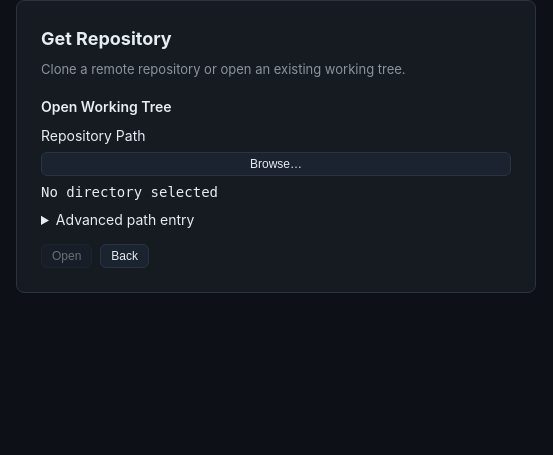
Test case: ClientClone rejects relative paths before any backend call › shows an actionable error for a relative open path
Click the heading "Advanced path entry": (125, 219) left=56, top=210, right=194, bottom=228
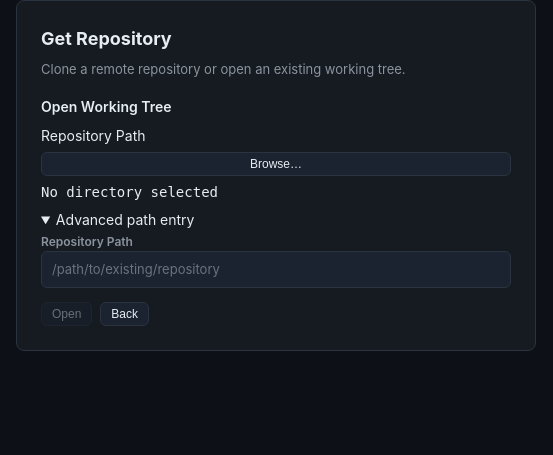
In the field labelled "Repository Path": (276, 269) left=41, top=250, right=511, bottom=288, type "./repo"
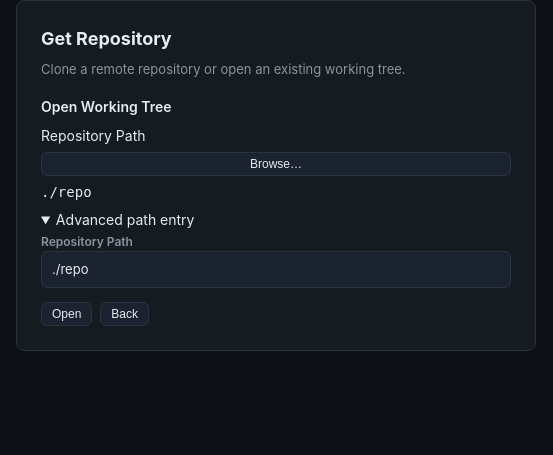
Click the button "Open": (67, 314) left=41, top=302, right=92, bottom=326
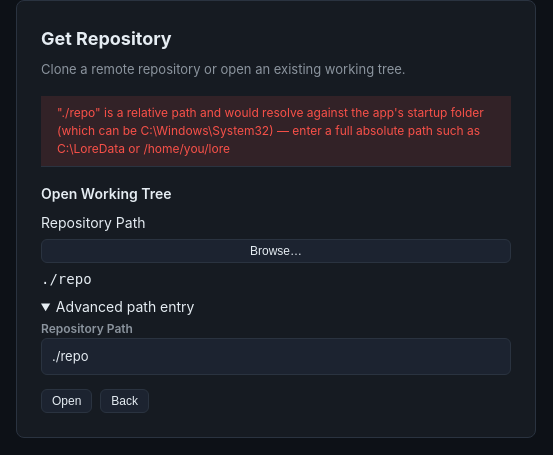
Result: the text "is a relative path" is shown at left=57, top=104, right=487, bottom=156
